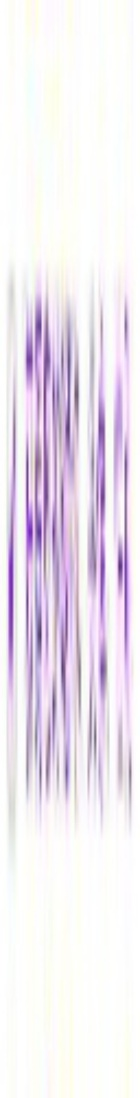CheckBox: (1, 1, 139, 1097)
